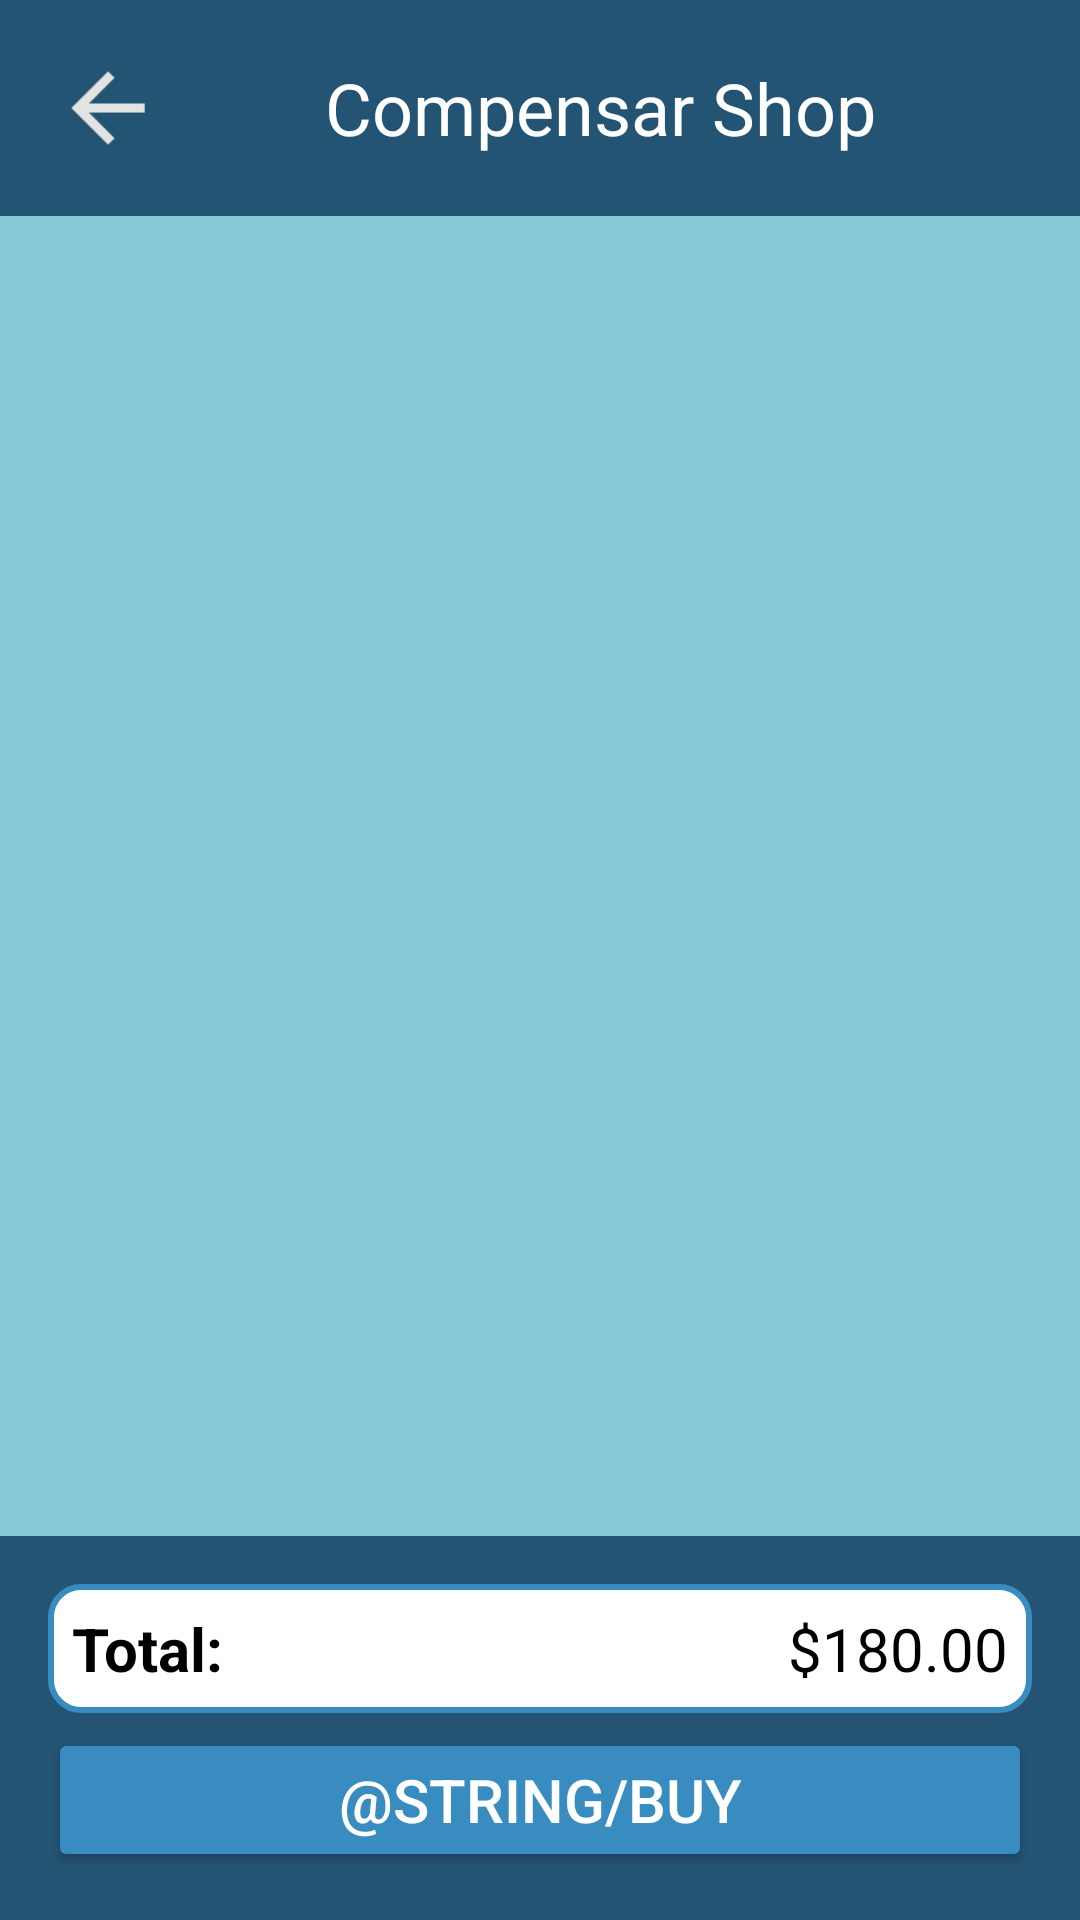

Screen size 1080×1920. Icon name, then its center in pixels as (x=x, y=y):
arrow back: (x=108, y=108)
